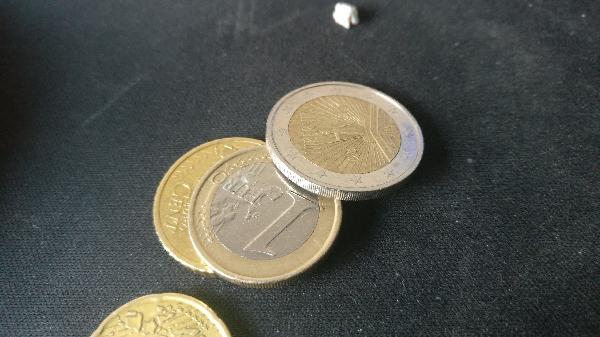Fifty Cent: (153, 139, 272, 274)
One Euro: (187, 143, 356, 288)
Twenty Cent: (78, 286, 237, 337)
Two Euro: (264, 79, 434, 201)
